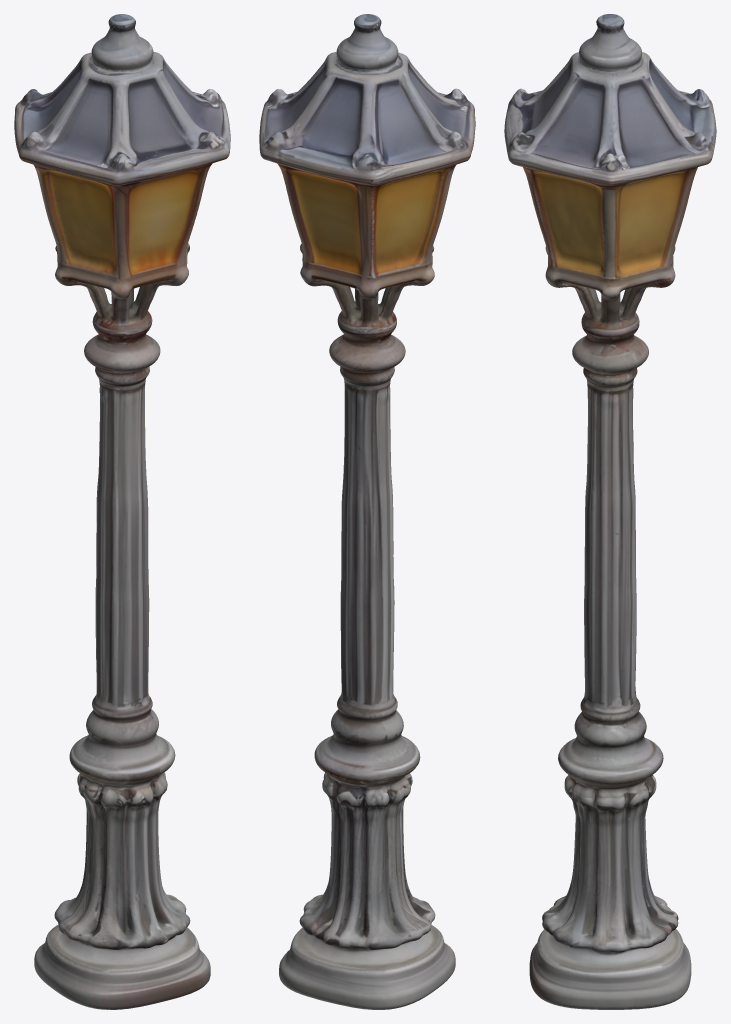
The model's file is street_lamp.glb.
The picture shows the model from 3 angles, left to right: view 1: azimuth 30°, elevation 25°; view 2: azimuth 150°, elevation 25°; view 3: azimuth 270°, elevation 25°; orthographic projection.
Parts seen in each view (by area): view 1: tripo_node_038250da-06b9-4a7d-a320-19b93d8494ac; view 2: tripo_node_038250da-06b9-4a7d-a320-19b93d8494ac; view 3: tripo_node_038250da-06b9-4a7d-a320-19b93d8494ac.
Boxes of the visible parts, left/top/right/bottom form: tripo_node_038250da-06b9-4a7d-a320-19b93d8494ac: left=14, top=14, right=230, bottom=1009; tripo_node_038250da-06b9-4a7d-a320-19b93d8494ac: left=259, top=14, right=475, bottom=1009; tripo_node_038250da-06b9-4a7d-a320-19b93d8494ac: left=504, top=14, right=716, bottom=1009.
Size of the model in its own units: 0.2127 by 0.9496 by 0.1901.
1 material, 1 textured.
